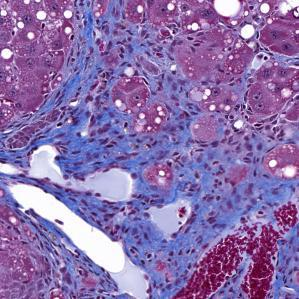fibrosis: (16, 122, 243, 225), (68, 16, 200, 118), (100, 231, 241, 295)
